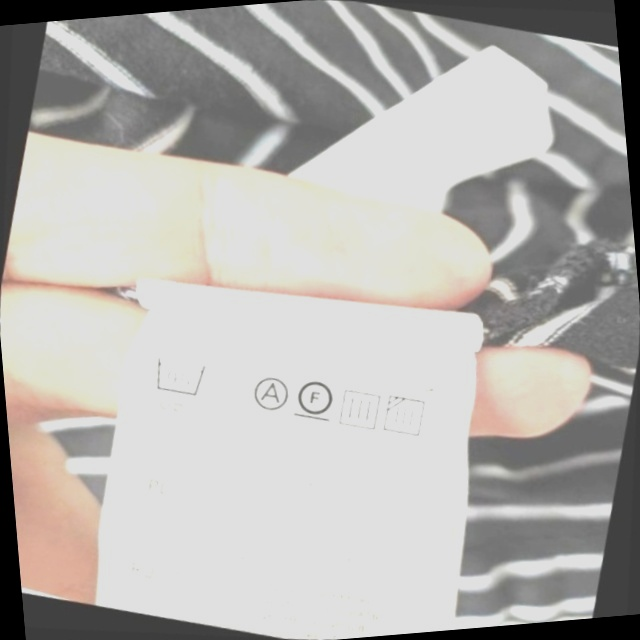95C: (146, 348, 214, 404)
bleach: (203, 359, 251, 411)
drip_dry: (332, 381, 389, 436)
drip_dry_in_shade: (378, 388, 436, 445)
dry_clean: (245, 369, 295, 417)
dry_clean_petrol_only: (289, 370, 342, 427)
